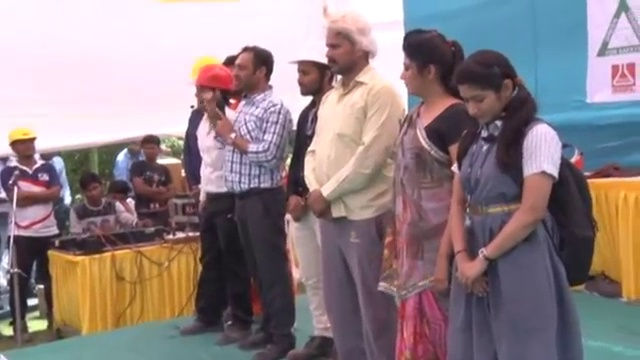helmet: (187, 57, 237, 95), (289, 44, 330, 68), (7, 126, 39, 147)
helmet_off: (454, 47, 523, 131), (396, 26, 459, 101), (319, 16, 382, 76), (225, 46, 277, 96), (79, 174, 105, 204), (107, 179, 131, 207), (141, 138, 160, 162), (126, 140, 142, 160)
helmet_on: (186, 59, 237, 120), (290, 41, 328, 99), (7, 126, 39, 168)
person: (447, 44, 594, 358), (304, 14, 407, 359), (389, 21, 469, 360), (213, 44, 295, 360), (177, 59, 250, 347), (283, 39, 333, 358), (0, 126, 68, 356), (66, 172, 135, 243), (127, 136, 177, 224), (111, 141, 141, 197)
